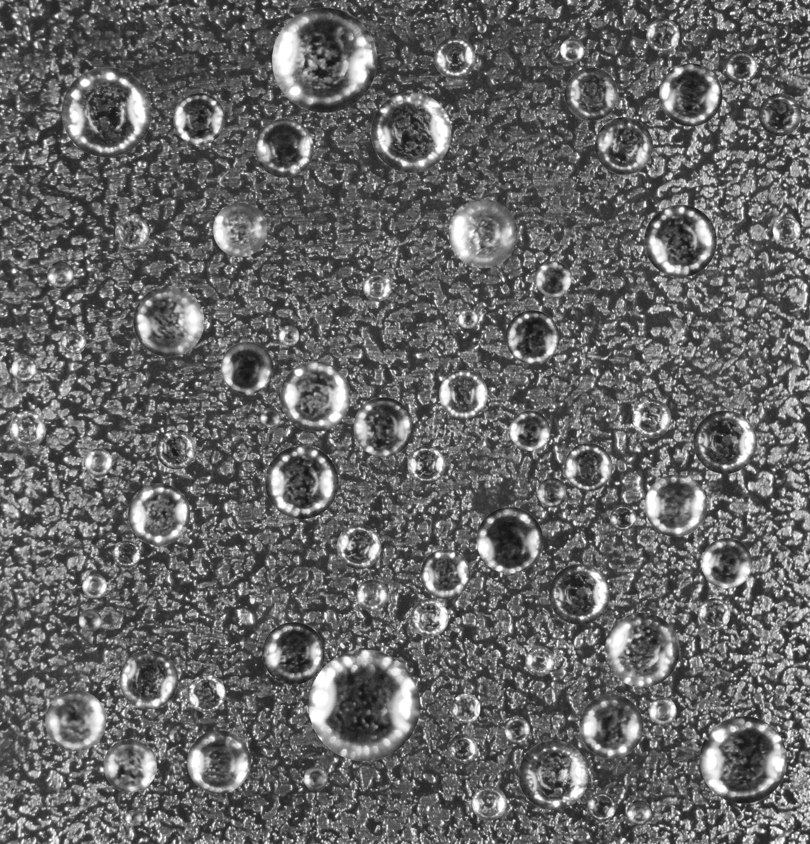Bubble: (308, 649, 420, 761), (272, 7, 377, 112), (61, 67, 151, 157), (699, 716, 787, 803), (371, 92, 451, 172), (605, 612, 679, 687), (265, 445, 338, 519), (644, 204, 716, 277), (133, 286, 204, 356), (280, 361, 350, 431), (518, 740, 588, 810), (448, 199, 517, 268), (476, 507, 543, 573), (579, 694, 643, 758), (659, 63, 722, 126), (693, 410, 756, 473), (187, 730, 250, 793), (644, 474, 707, 536), (262, 622, 324, 684), (128, 483, 190, 545), (45, 690, 106, 751), (549, 564, 609, 624), (353, 397, 413, 456), (254, 118, 313, 177), (119, 650, 178, 709), (595, 117, 652, 174), (505, 310, 559, 364), (213, 202, 267, 256), (103, 739, 156, 792), (220, 341, 273, 394), (564, 67, 617, 120), (173, 93, 225, 144), (701, 538, 752, 588), (420, 549, 470, 599), (564, 443, 612, 491), (439, 370, 487, 418), (336, 524, 381, 569), (758, 93, 801, 136), (433, 37, 475, 78), (509, 410, 550, 450), (156, 429, 196, 469), (632, 399, 671, 438), (407, 445, 445, 483), (187, 674, 225, 712), (410, 599, 448, 636), (9, 411, 45, 447), (535, 261, 571, 296), (115, 213, 150, 248), (472, 786, 506, 820), (646, 18, 679, 51), (725, 50, 757, 82), (356, 579, 388, 611), (698, 598, 730, 630), (537, 477, 567, 507), (447, 734, 477, 764), (451, 693, 480, 723), (525, 646, 554, 676), (587, 792, 616, 821), (363, 272, 391, 301), (772, 216, 800, 244), (84, 448, 112, 475), (113, 540, 140, 568), (649, 697, 676, 724), (47, 261, 74, 288), (610, 505, 636, 531), (626, 800, 652, 825), (61, 329, 86, 354), (11, 356, 36, 381), (505, 717, 530, 742), (560, 38, 584, 62), (82, 574, 106, 598), (304, 767, 327, 790), (78, 609, 101, 631), (278, 325, 299, 346), (260, 408, 280, 428), (458, 309, 477, 328), (125, 810, 141, 826), (549, 160, 560, 171), (477, 23, 486, 32), (741, 495, 750, 504)
